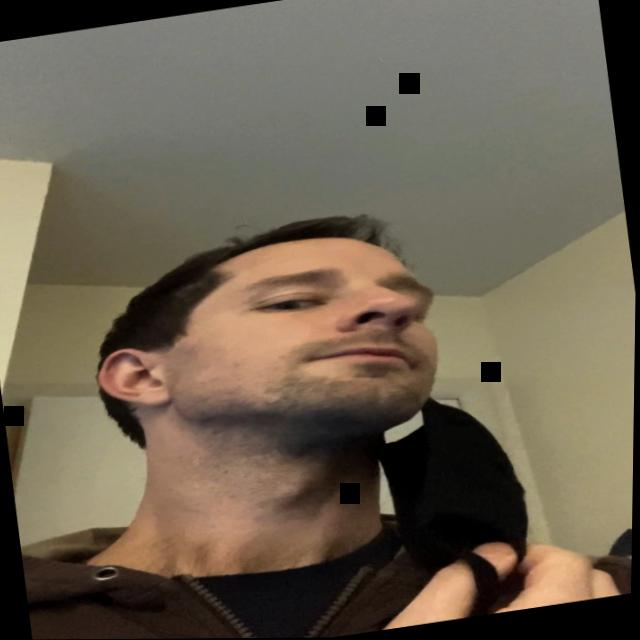NO-Mask: (123, 215, 460, 476)
